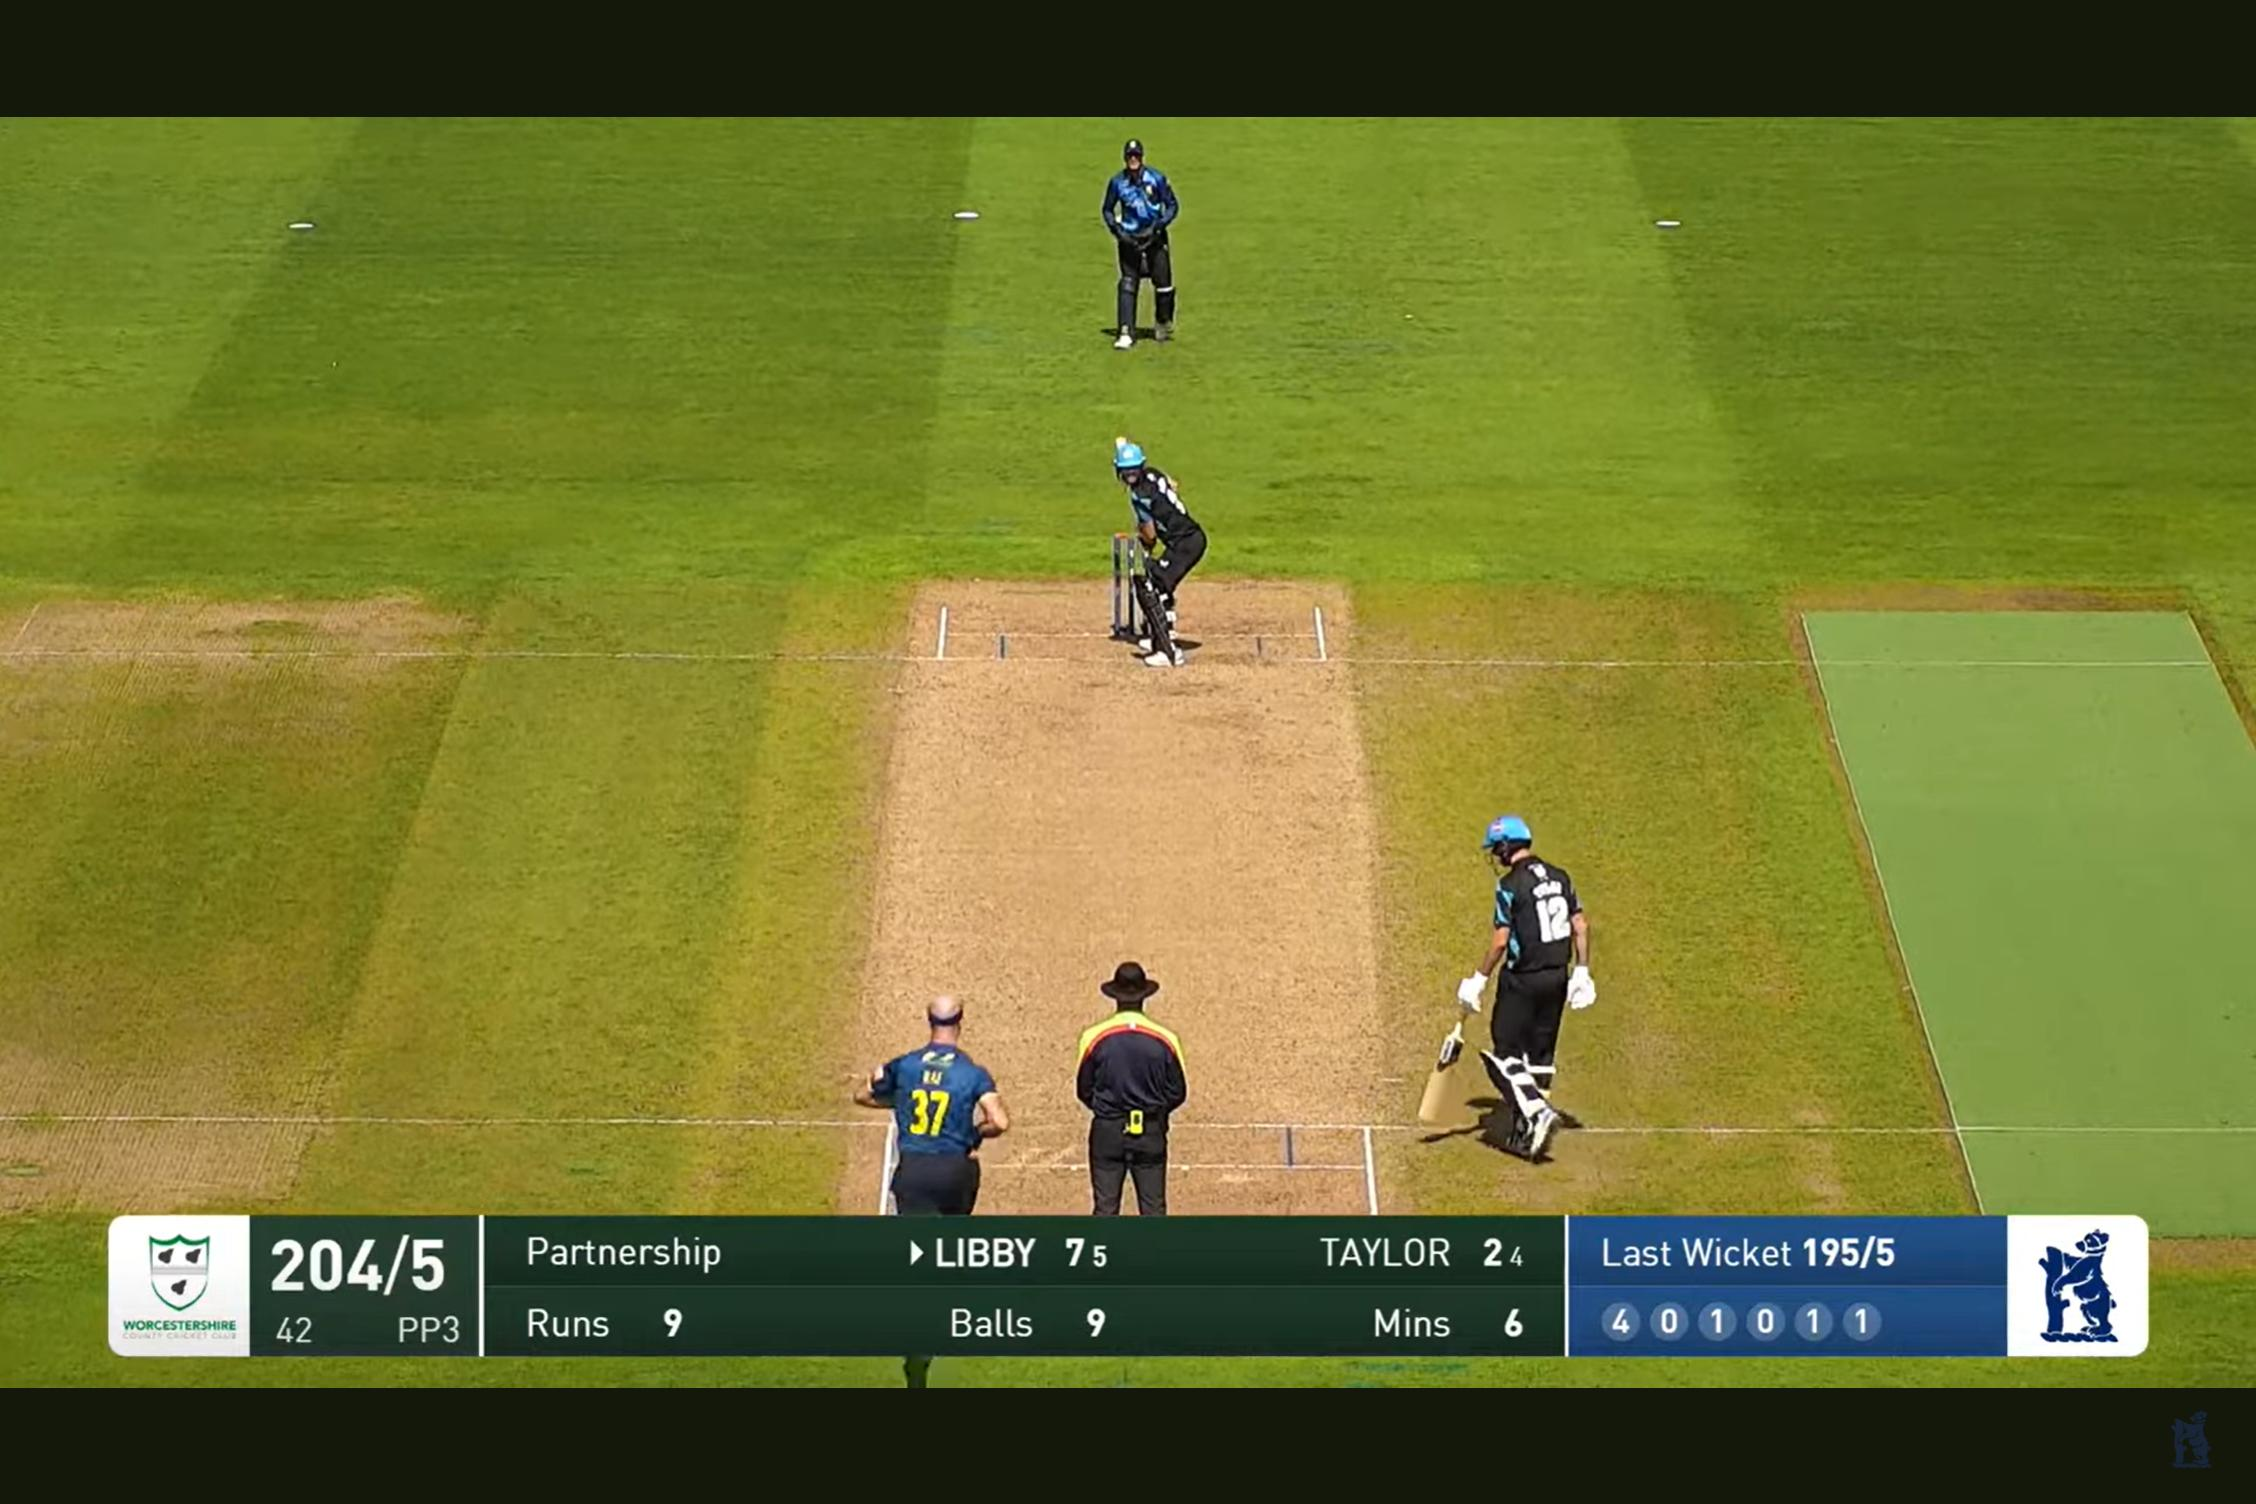batsman: (1081, 418, 1232, 683)
bowler running in: (848, 911, 1009, 1229)
non striker: (1392, 812, 1638, 1167)
umpire: (1051, 947, 1220, 1219)
wicket keeper: (1078, 136, 1195, 359)
